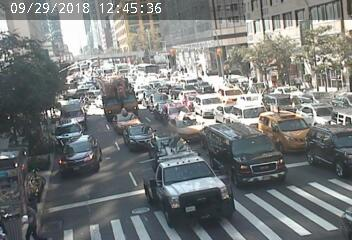car: (217, 131, 275, 173), (157, 168, 213, 206), (318, 133, 351, 161), (230, 100, 263, 126), (269, 116, 300, 141), (65, 145, 99, 167), (305, 104, 333, 130), (103, 84, 131, 104), (196, 96, 230, 110), (157, 103, 190, 117), (153, 134, 181, 150), (127, 125, 152, 142), (268, 89, 288, 110), (113, 113, 137, 128), (134, 61, 161, 74), (64, 104, 87, 119), (55, 125, 79, 139), (172, 115, 196, 126), (182, 91, 201, 103), (220, 87, 242, 97), (181, 75, 202, 85), (195, 81, 213, 91), (148, 80, 165, 86), (170, 86, 186, 92)
